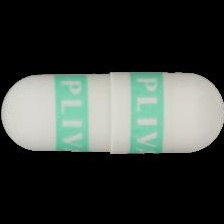58118-0644: (0, 0, 224, 224)
